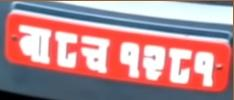1: (193, 46, 219, 87), (119, 39, 141, 79)
2: (142, 42, 167, 81)
8: (53, 29, 80, 69), (168, 44, 193, 86)
ba: (16, 24, 52, 66)
cha: (80, 31, 111, 74)
